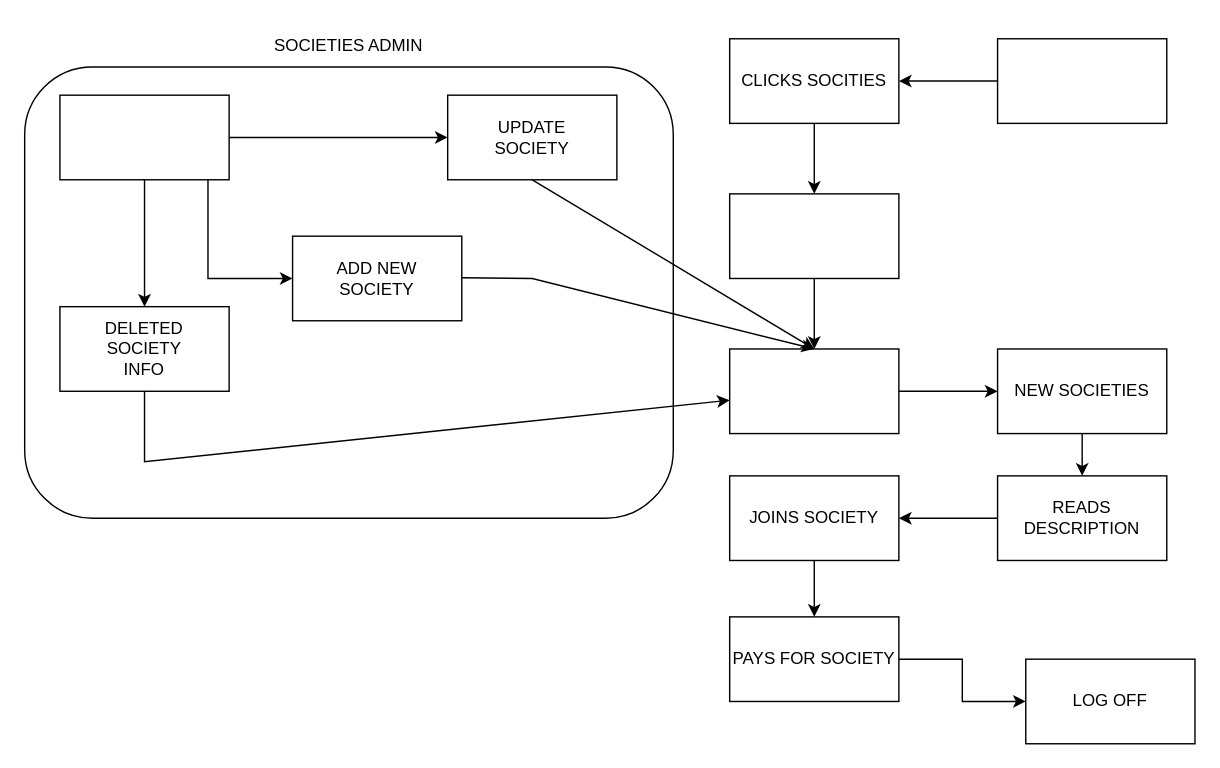
Some shapes in this 1220 by 768 pixel diagram are drawn without their labels. The shapes that lost their labels are listed below. From the top down, each one's centre as x and y in pixels, then its label:
the point at 1081,80: LOGON
the point at 144,137: CHECK SOCIETIES
the point at 813,235: BROWSING SOCIETIES
the point at 813,391: SOCIETIES
